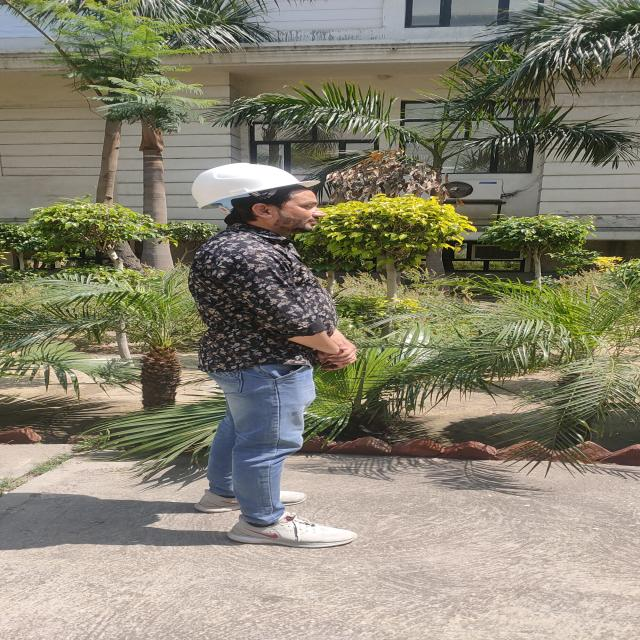no jacket: (189, 162, 357, 547)
